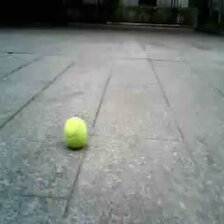tennis: (64, 117, 87, 147)
